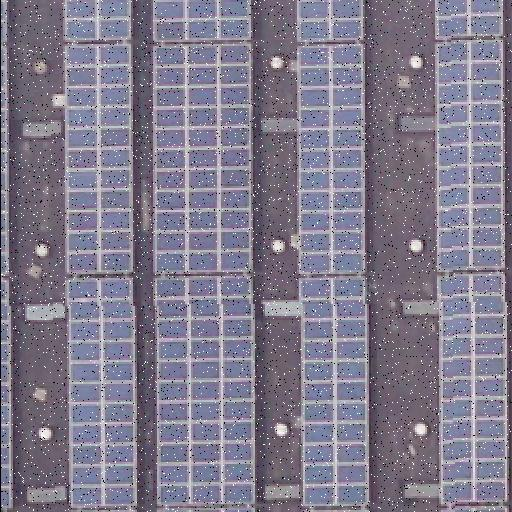solar-panel: (146, 3, 260, 512), (416, 6, 512, 512), (286, 0, 374, 512), (64, 0, 136, 512), (0, 3, 18, 512)
